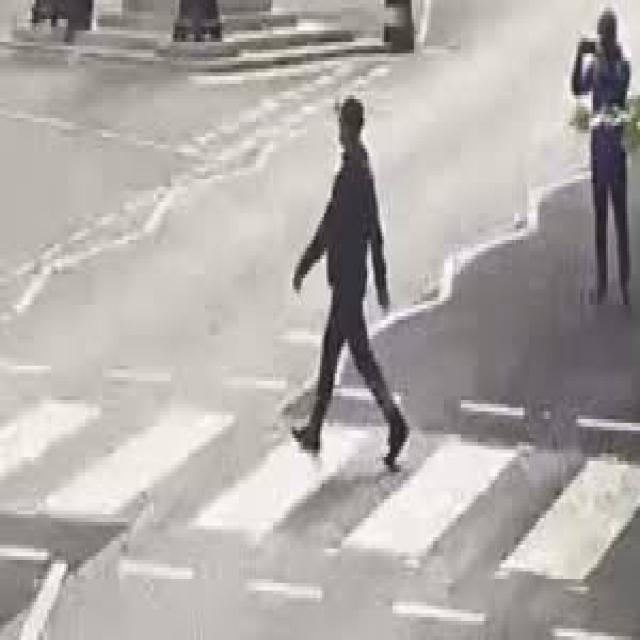Pedestrians: (290, 95, 414, 465), (572, 11, 631, 312)
